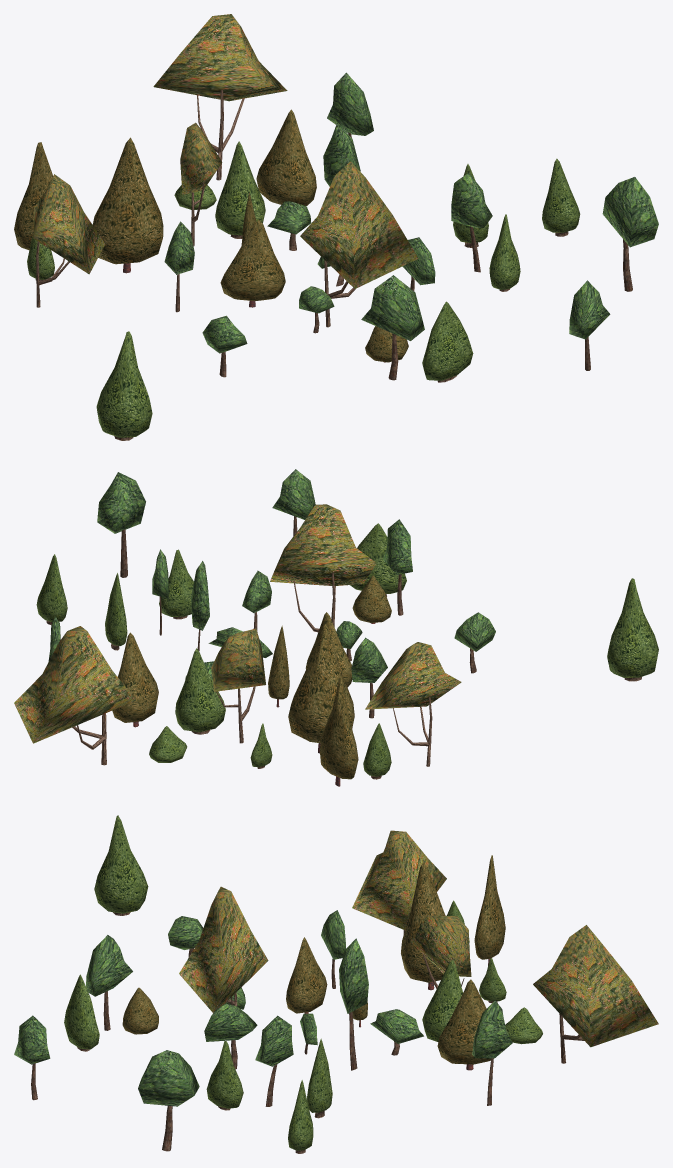
Rendered from Forest.fbx.
3 renders of one model, top to bottom at view 1: azimuth 30°, elevation 25°; view 2: azimuth 150°, elevation 25°; view 3: azimuth 270°, elevation 25°, orthographic. The views are drawn at different scales.
Visible parts, largest first — view 1: TreeB2.004; view 2: TreeB2.004; view 3: TreeB2.004.
Part boxes in pixels (x1,y1,x2,y2): TreeB2.004: [14, 14, 658, 440]; TreeB2.004: [14, 469, 658, 786]; TreeB2.004: [14, 815, 658, 1153].
Bounding box in the file's own units: 1722 × 468 × 1819.
